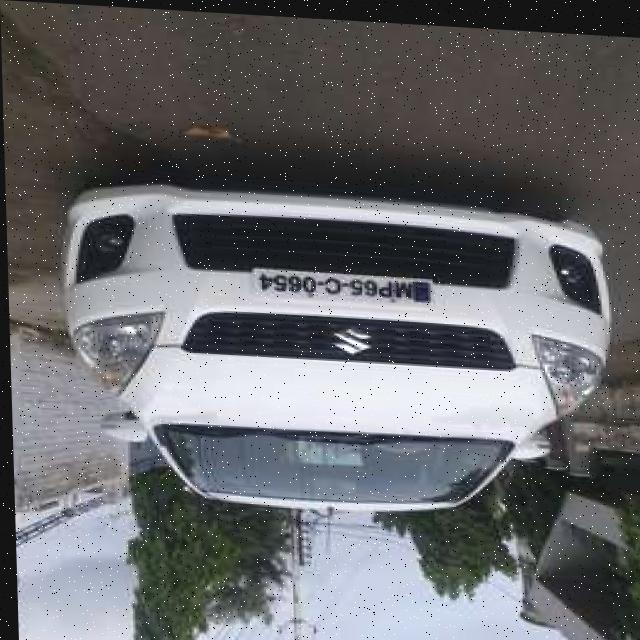plate: (249, 264, 433, 304)
